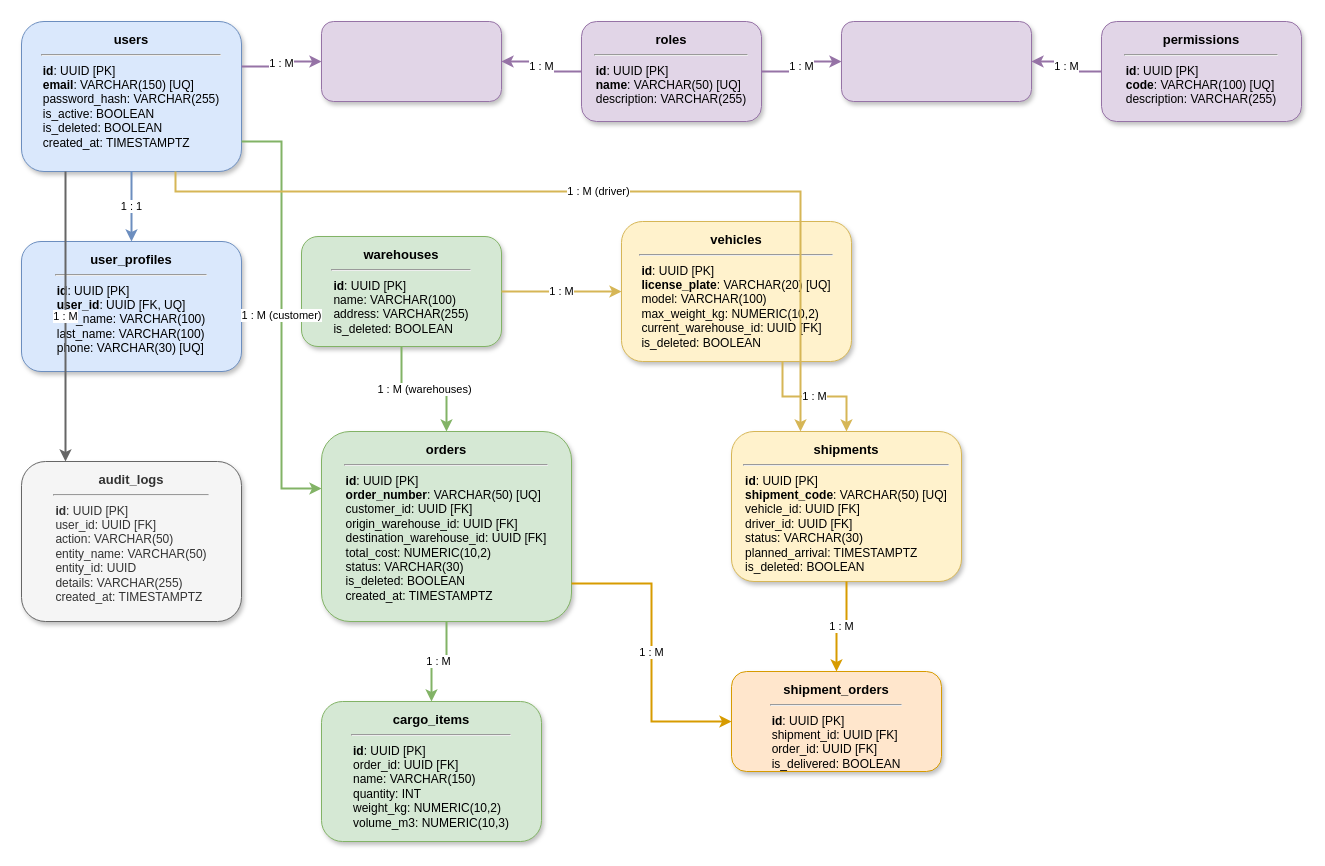
The diagram is 1325 pixels wide and 866 high, and some of its shapes have lost their labels. Here are the shapes that lost their labels. From the top down, the centre of each, then its label:
(x=412, y=62): user_roles user_id : UUID [PK, FK] role_id : UUID [PK, FK]
(x=937, y=62): role_permissions role_id : UUID [PK, FK] permission_id : UUID [PK, FK]
